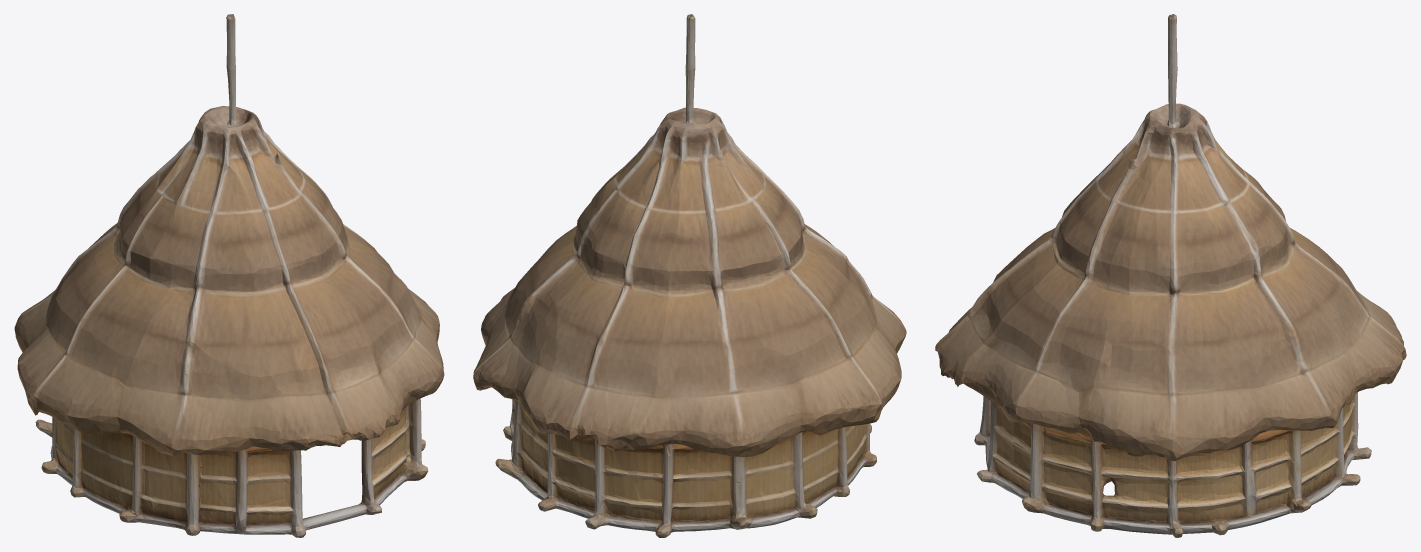
File: hut2.glb
3 renders of one model, left to right at view 1: azimuth 30°, elevation 25°; view 2: azimuth 150°, elevation 25°; view 3: azimuth 270°, elevation 25°, orthographic.
Parts seen in each view (by area): view 1: world; view 2: world; view 3: world.
Boxes of the visible parts, box(x1,y1,x2,y2) form: world: box(14, 14, 444, 537); world: box(473, 14, 906, 537); world: box(935, 14, 1406, 537).
Bounding box in the file's own units: 0.9134 × 0.9985 × 0.9624.
1 material, 1 textured.
